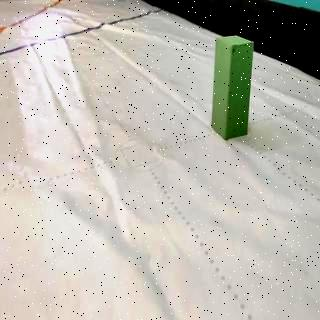greenbox: (213, 33, 255, 140)
